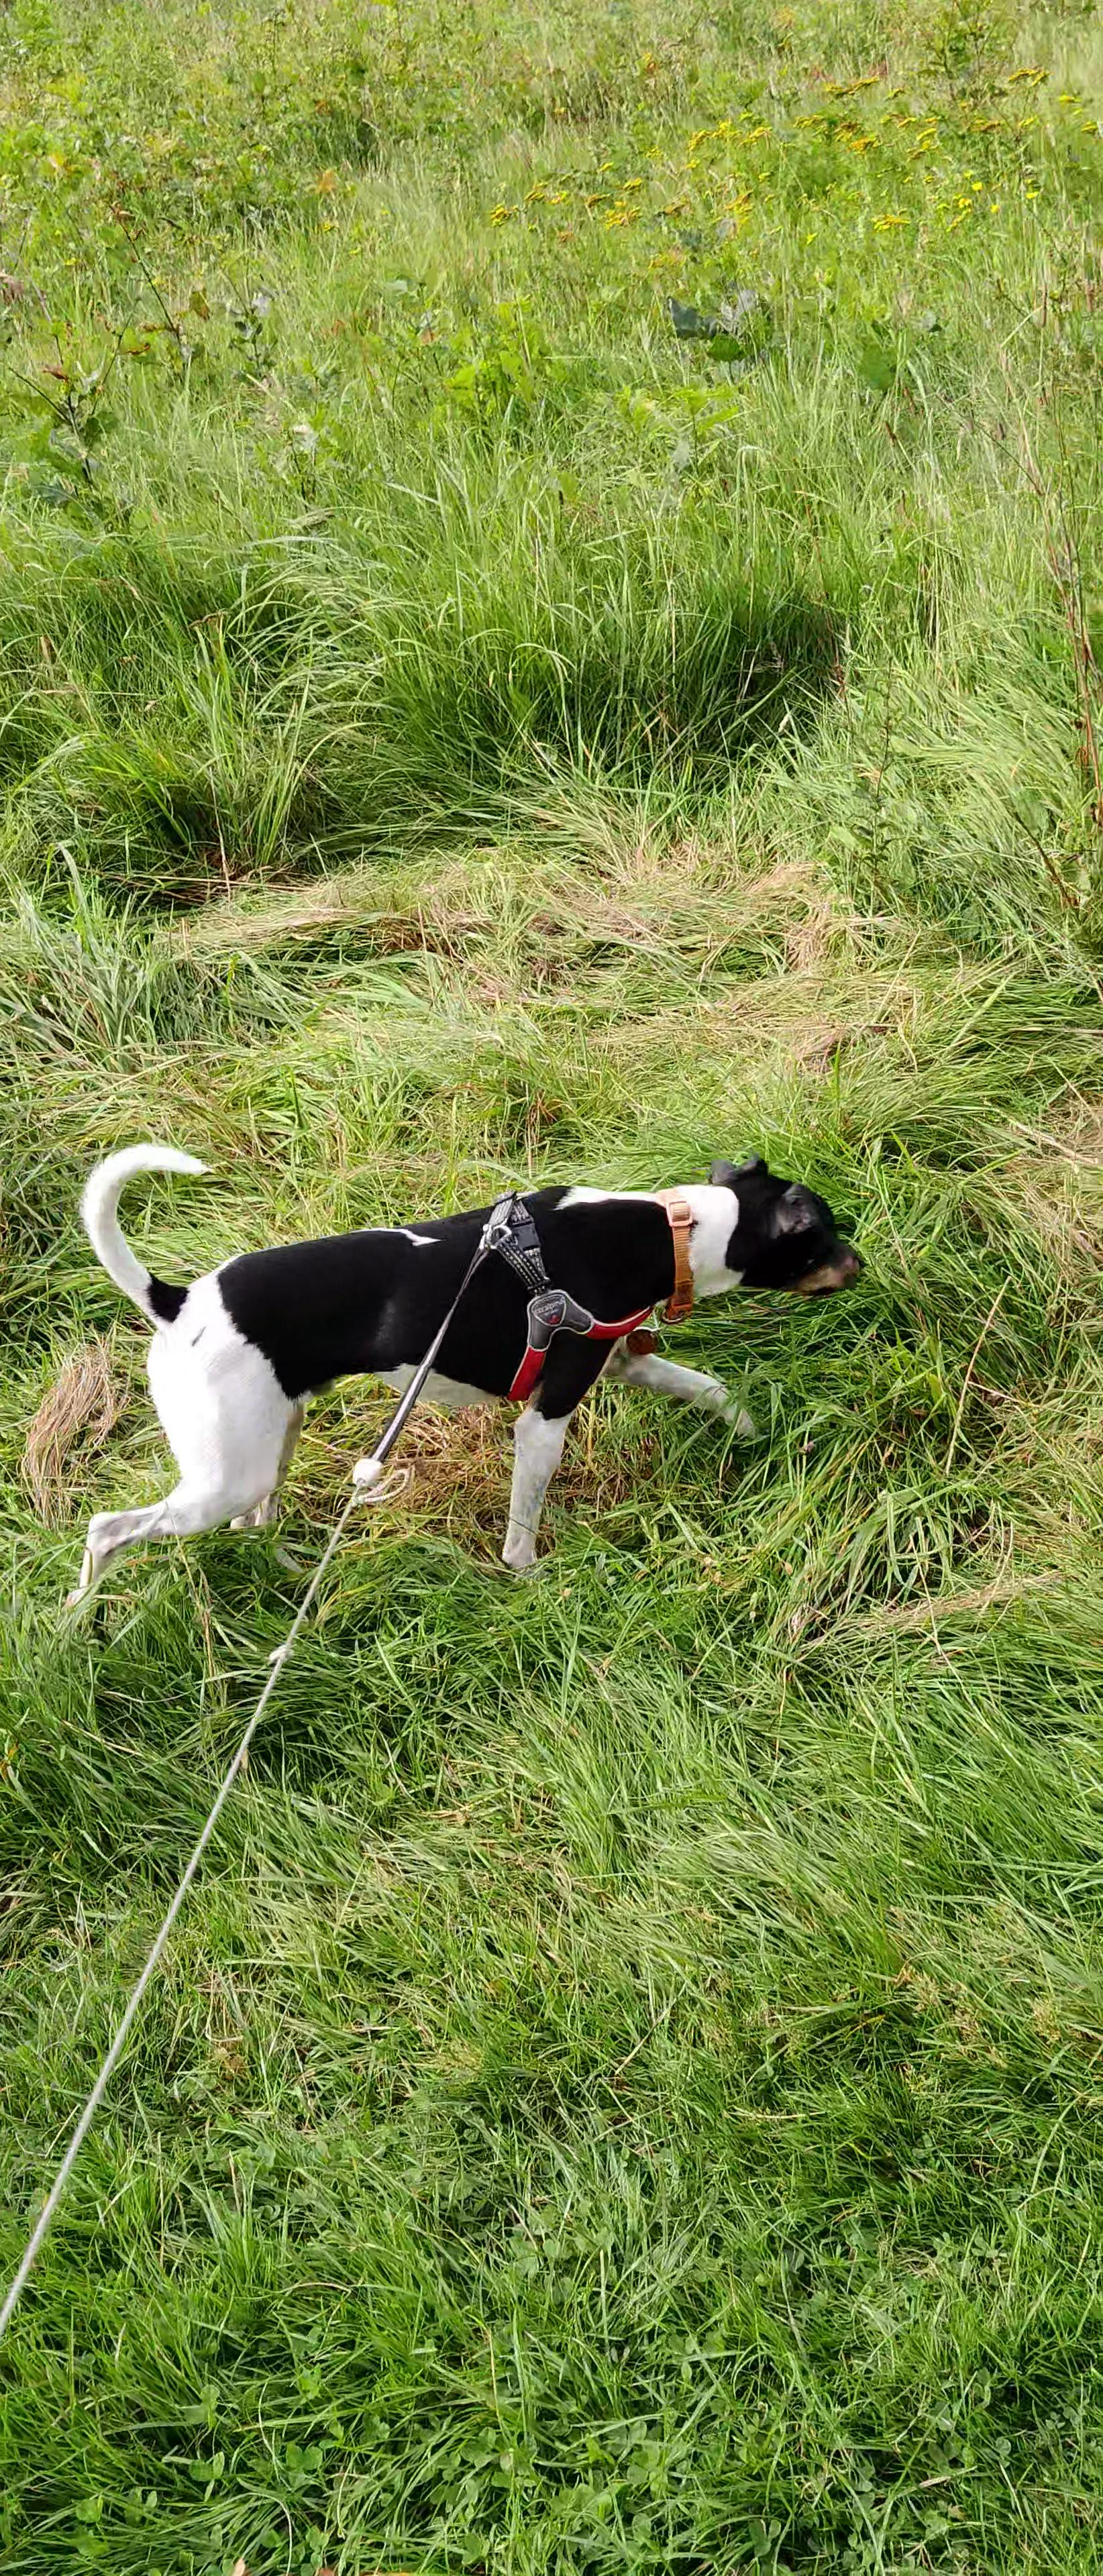Dog: (51, 1138, 875, 1631)
